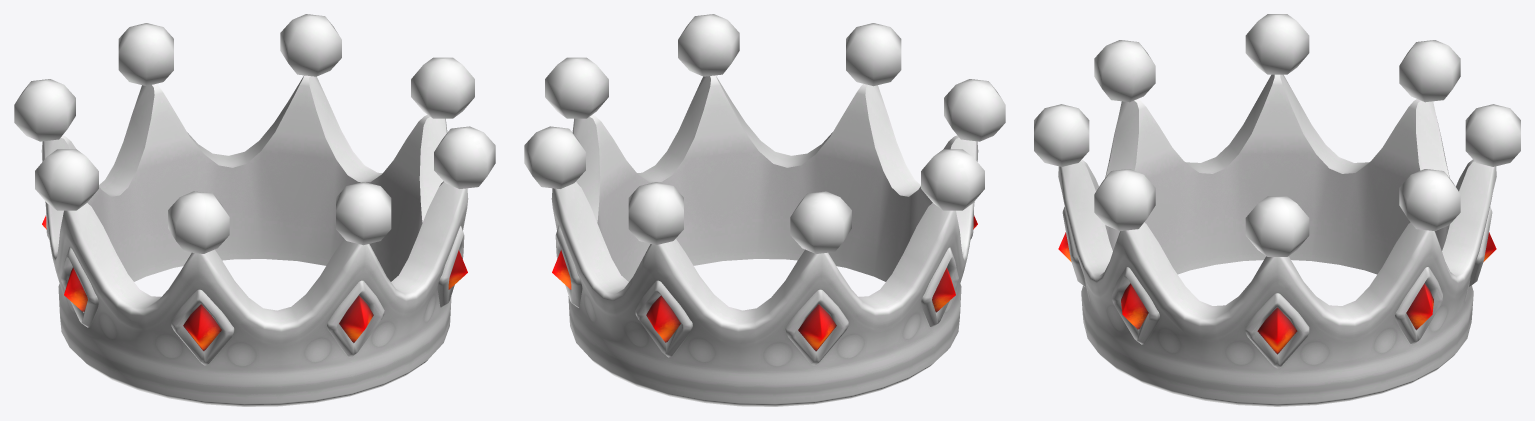
The model's file is IG_Helmat_Crown.fbx.
3 views of the same model, side by side, from view 1: azimuth 30°, elevation 25°; view 2: azimuth 150°, elevation 25°; view 3: azimuth 270°, elevation 25° (orthographic).
Visible parts, largest first — view 1: Crown; view 2: Crown; view 3: Crown.
Part boxes in pixels (left/top/right/bottom): Crown: left=14, top=14, right=495, bottom=406; Crown: left=524, top=14, right=1005, bottom=406; Crown: left=1034, top=14, right=1520, bottom=406.
Bounding box in the file's own units: 0.5327 × 0.2667 × 0.5327.
